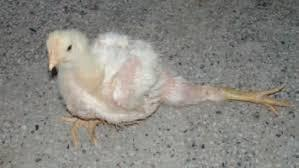AbNormal: (41, 23, 299, 151)
